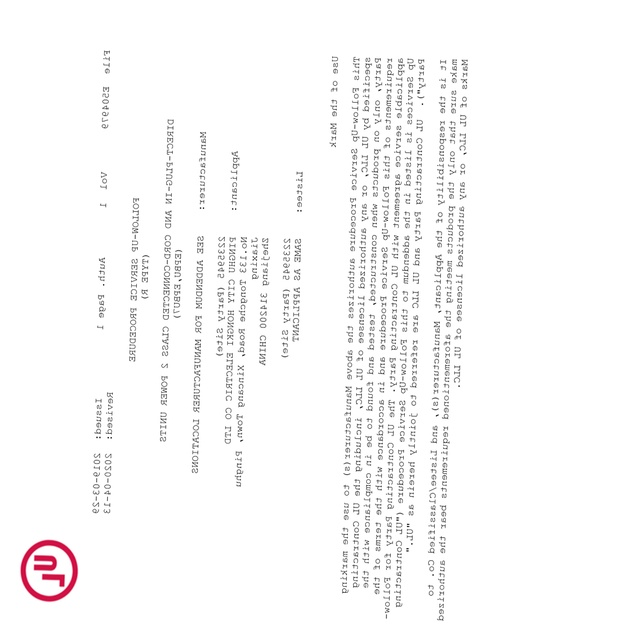ul: (18, 538, 78, 603)
